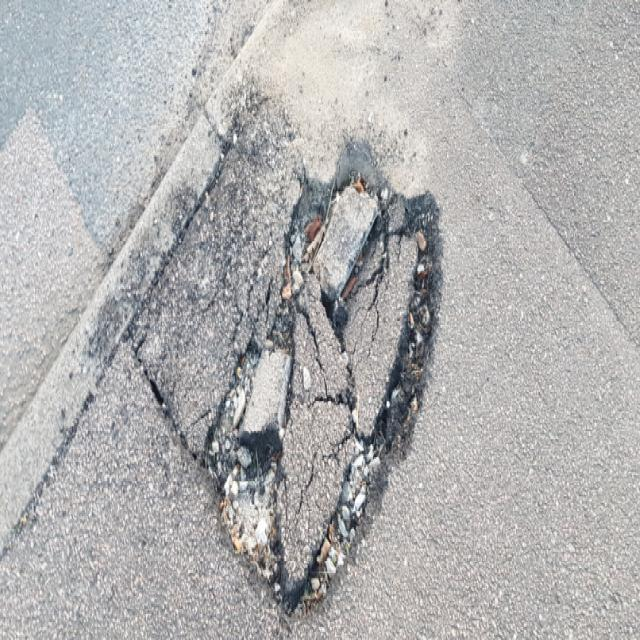pothole: (128, 96, 446, 622)
